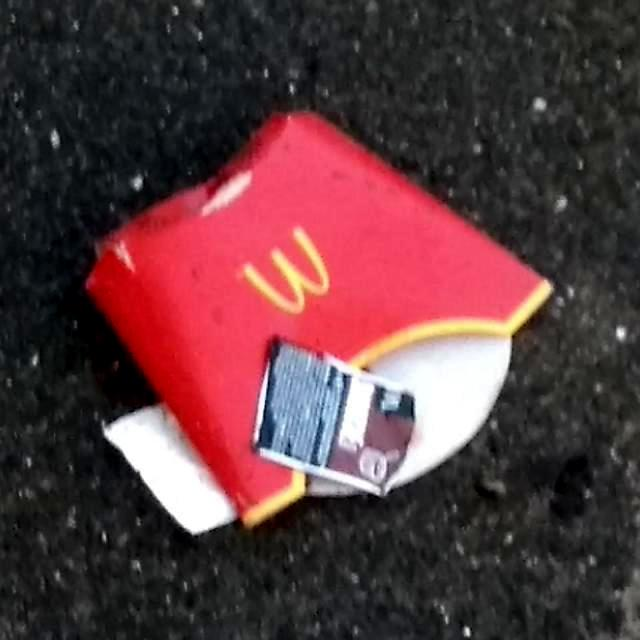Paper: (80, 104, 556, 536)
